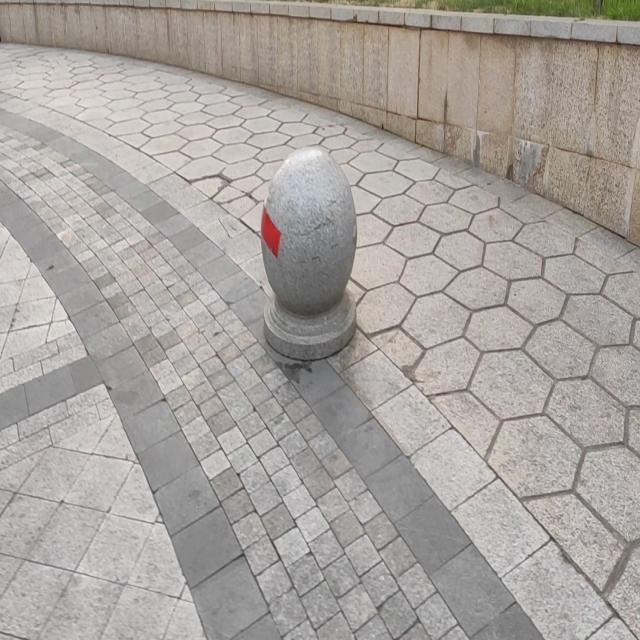spherical_roadblock: (247, 138, 381, 362)
